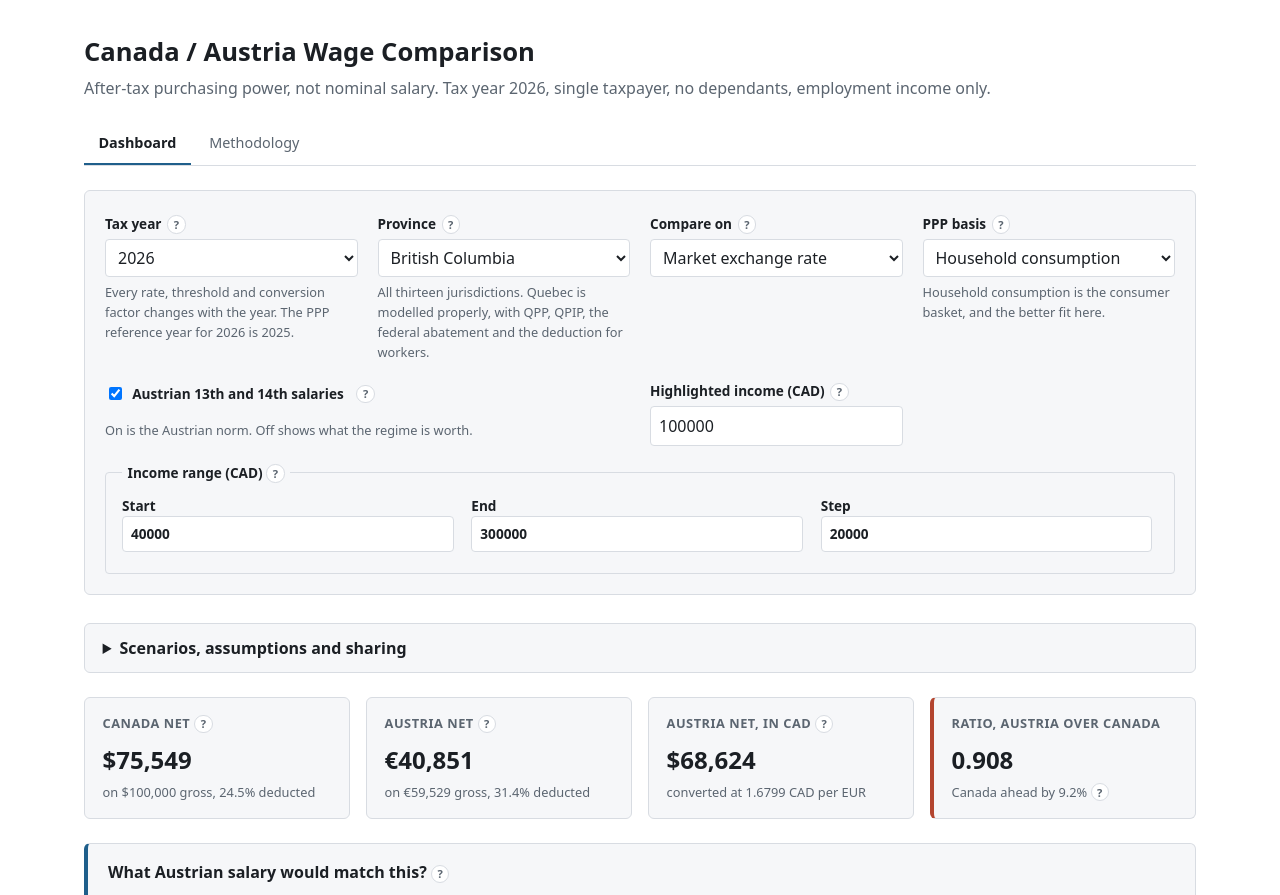
it: App › disables the PPP basis selector when comparing on FX
Expected: the dropdown labelled "PPP basis" is enabled, x1=922 y1=239 x2=1175 y2=277
Select "Market exchange rate" in the dropdown with id "basis" at (776, 258), box x1=650 y1=239 x2=902 y2=277
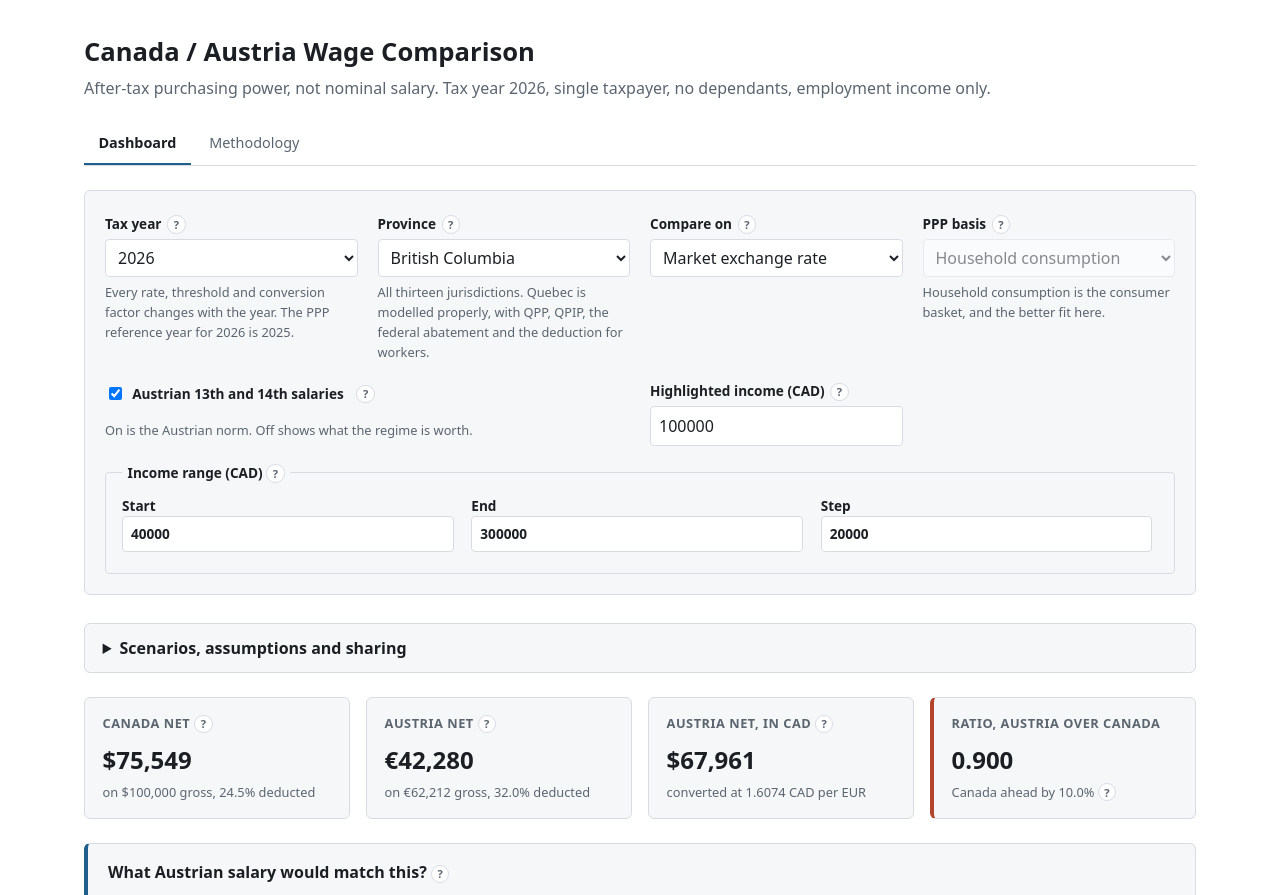
Expected: the dropdown labelled "PPP basis" is disabled, x1=922 y1=239 x2=1175 y2=277
